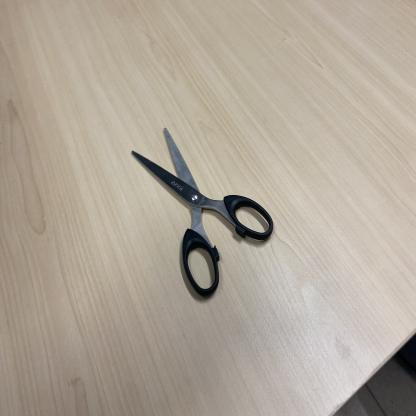scissors: (128, 125, 277, 306)
